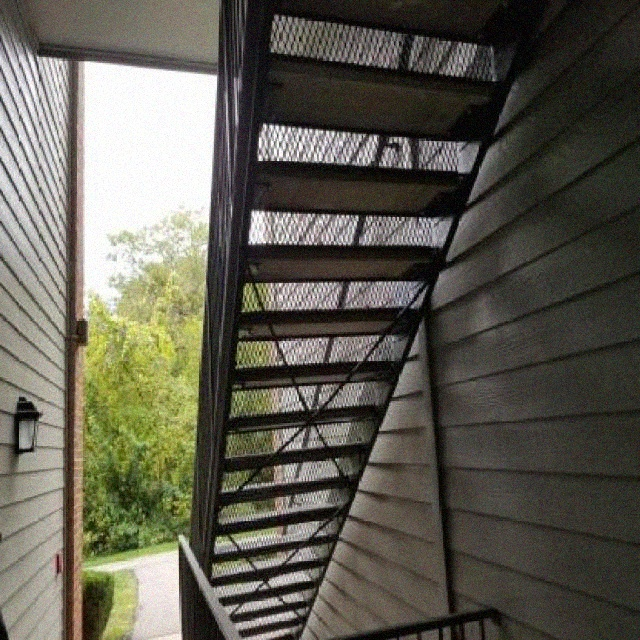stair: (148, 0, 552, 640)
